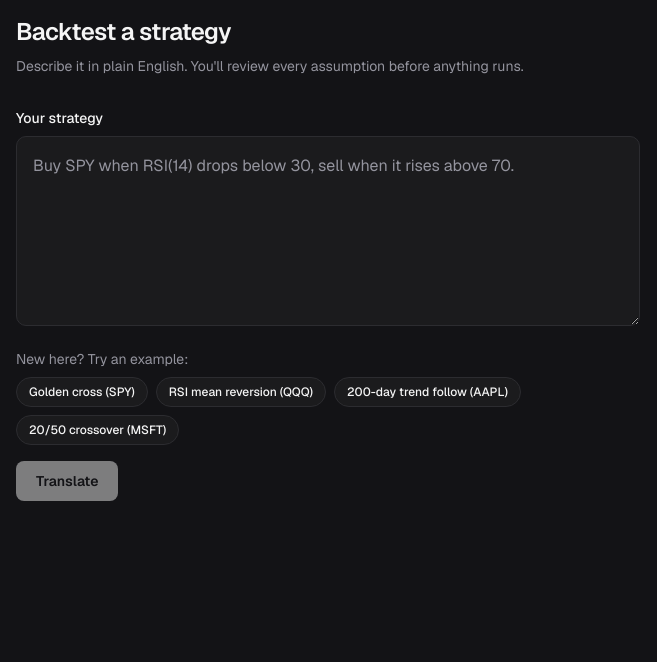
INV-2 (amended): verdict-* stays VerdictCard-exclusive; RobustnessPanel may now carry the SEPARATE check-* family › TranslateFlow's error banner (a failed /translate) carries no saturated color, no verdict-* token, and no check-* token
Replace the text in the text box with test id "nl-input" with "buy SPY when RSI < 30" at (328, 231), box [16, 136, 640, 326]
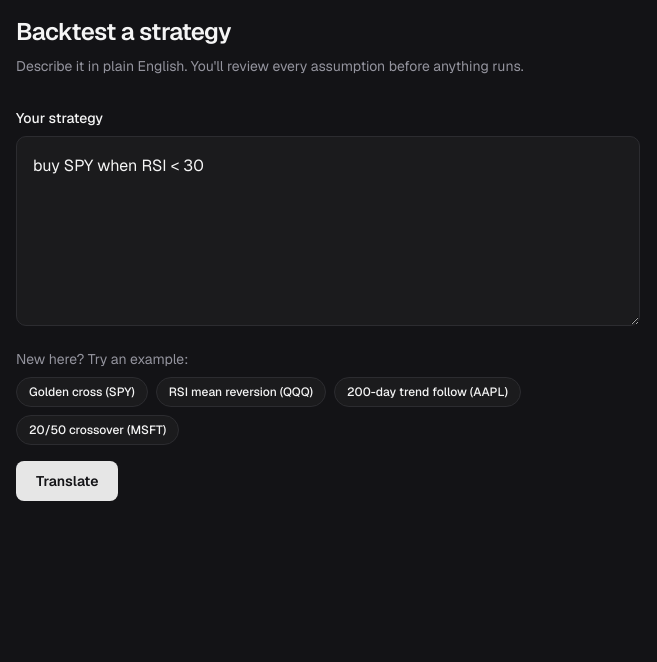
Click the button with test id "translate-submit".
click(67, 481)  # box [16, 461, 118, 501]
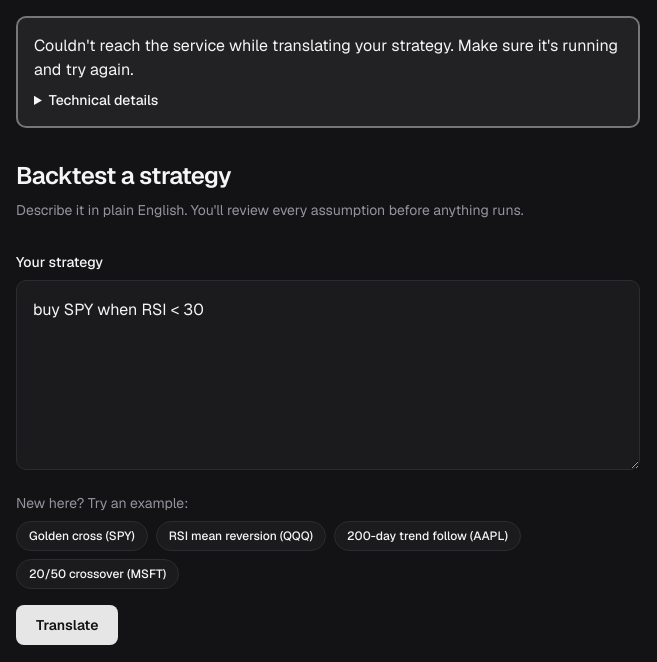
Check: the message with test id "translate-error" is shown, box [16, 16, 640, 128]
